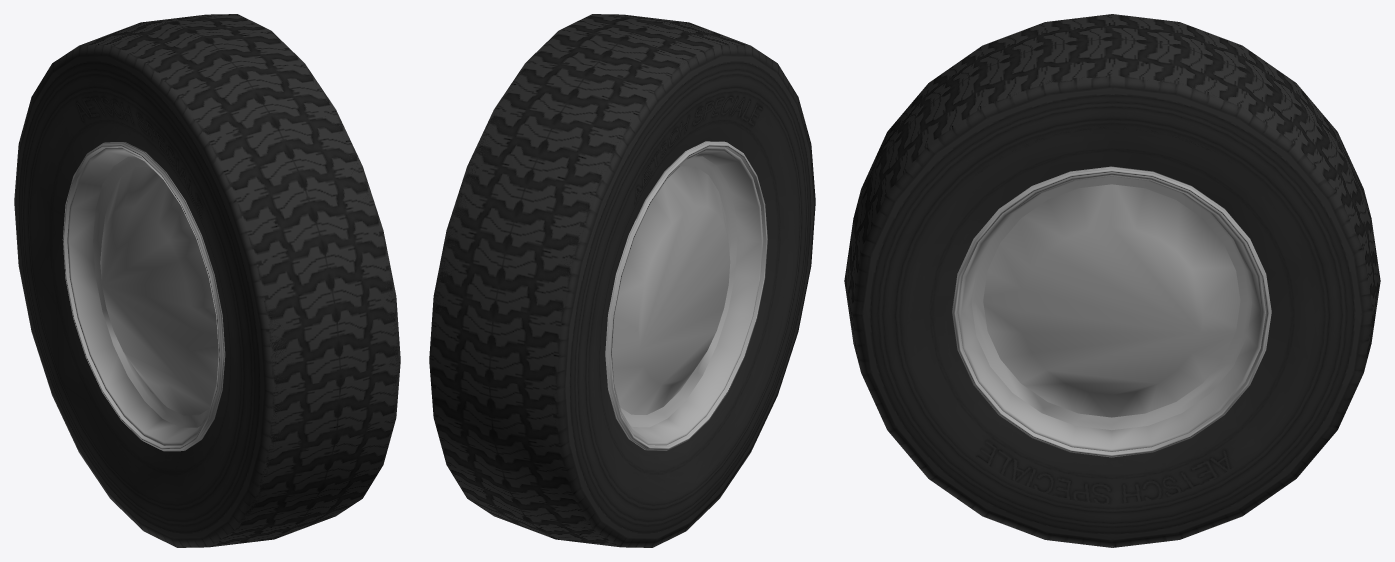
The model's file is wheels_01.fbx.
The picture shows the model from 3 angles, left to right: view 1: azimuth 30°, elevation 25°; view 2: azimuth 150°, elevation 25°; view 3: azimuth 270°, elevation 25°; orthographic projection.
Parts seen in each view (by area): view 1: Mesh_ncl1_2, Mesh_ncl1_3, Mesh_ncl1_1, Mesh; view 2: Mesh_ncl1_2, Mesh_ncl1_3, Mesh_ncl1_1; view 3: Mesh_ncl1_3, Mesh_ncl1_2, Mesh.
Boxes of the visible parts, x1=… form: Mesh_ncl1_2: x1=14, y1=22, x2=400, y2=547; Mesh_ncl1_3: x1=31, y1=14, x2=400, y2=547; Mesh_ncl1_1: x1=67, y1=147, x2=303, y2=445; Mesh: x1=145, y1=152, x2=340, y2=518; Mesh_ncl1_2: x1=430, y1=22, x2=815, y2=547; Mesh_ncl1_3: x1=429, y1=14, x2=798, y2=547; Mesh_ncl1_1: x1=490, y1=147, x2=763, y2=445; Mesh_ncl1_3: x1=844, y1=38, x2=1380, y2=547; Mesh_ncl1_2: x1=854, y1=14, x2=1370, y2=504; Mesh: x1=957, y1=173, x2=1265, y2=451.
Size of the model in its own units: 19.59 by 62.41 by 62.41.
